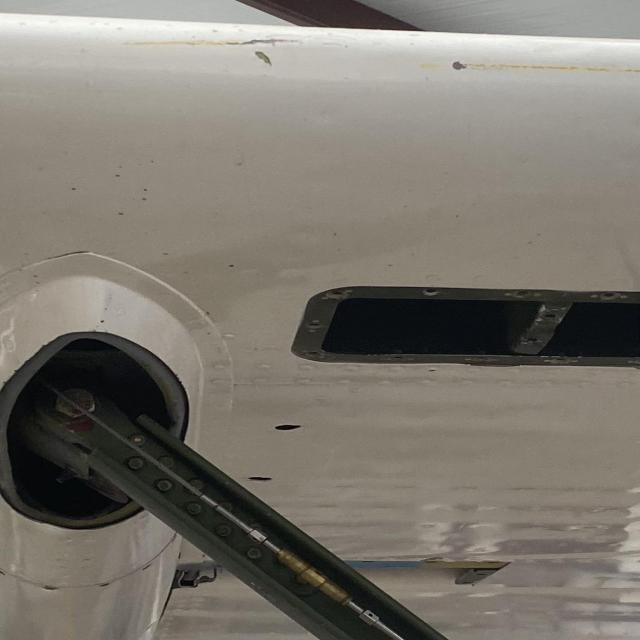Paint-off: (178, 25, 372, 55), (250, 47, 286, 66), (451, 60, 467, 69)
